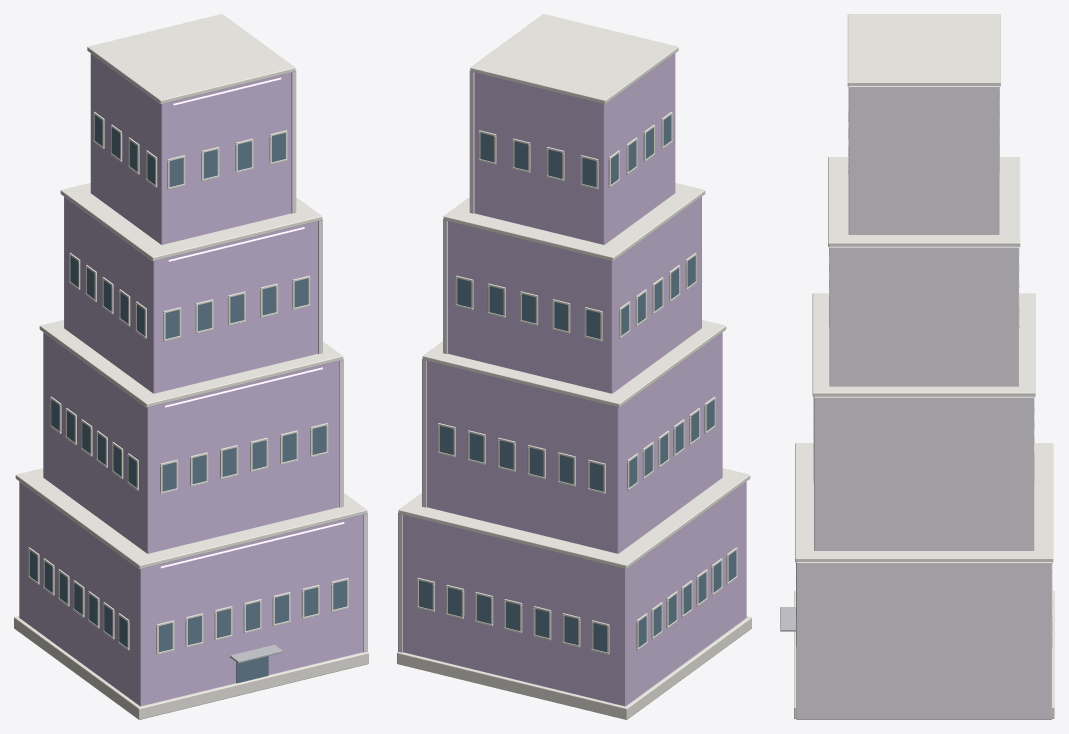
The model's file is bldg_lilac_tower.glb.
The picture shows the model from 3 angles, left to right: view 1: azimuth 30°, elevation 25°; view 2: azimuth 150°, elevation 25°; view 3: azimuth 270°, elevation 25°; orthographic projection. The views are drawn at different scales.
Parts seen in each view (by area): view 1: bldg_lilac_tower_band_0_wall, bldg_lilac_tower_band_1_wall, bldg_lilac_tower_band_2_wall, bldg_lilac_tower_band_3_wall, bldg_lilac_tower_band_3_cornice, bldg_lilac_tower_band_0_cornice, bldg_lilac_tower_plinth, bldg_lilac_tower_band_2_cornice, bldg_lilac_tower_band_1_cornice, bldg_lilac_tower_band_3_pilaster, bldg_lilac_tower_band_1_pilaster, bldg_lilac_tower_band_0_pilaster (+2 smaller); view 2: bldg_lilac_tower_band_0_wall, bldg_lilac_tower_band_1_wall, bldg_lilac_tower_band_2_wall, bldg_lilac_tower_band_3_wall, bldg_lilac_tower_band_3_cornice, bldg_lilac_tower_band_0_cornice, bldg_lilac_tower_plinth, bldg_lilac_tower_band_2_cornice, bldg_lilac_tower_band_1_cornice, bldg_lilac_tower_band_3_pilaster, bldg_lilac_tower_band_1_pilaster, bldg_lilac_tower_band_0_pilaster (+1 smaller); view 3: bldg_lilac_tower_band_0_pilaster, bldg_lilac_tower_band_1_pilaster, bldg_lilac_tower_band_2_pilaster, bldg_lilac_tower_band_3_pilaster, bldg_lilac_tower_band_3_cornice, bldg_lilac_tower_band_0_cornice, bldg_lilac_tower_band_1_cornice, bldg_lilac_tower_band_2_cornice, bldg_lilac_tower_plinth.
Boxes of the visible parts, x1,y1,x2,y2 form: bldg_lilac_tower_band_0_wall: (19, 481, 362, 706); bldg_lilac_tower_band_1_wall: (43, 332, 338, 553); bldg_lilac_tower_band_2_wall: (64, 197, 317, 393); bldg_lilac_tower_band_3_wall: (90, 53, 291, 244); bldg_lilac_tower_band_3_cornice: (87, 14, 295, 104); bldg_lilac_tower_band_0_cornice: (15, 468, 367, 569); bldg_lilac_tower_plinth: (14, 616, 368, 719); bldg_lilac_tower_band_2_cornice: (60, 183, 322, 261); bldg_lilac_tower_band_1_cornice: (39, 320, 343, 407); bldg_lilac_tower_band_3_pilaster: (291, 70, 296, 213); bldg_lilac_tower_band_1_pilaster: (339, 359, 343, 507); bldg_lilac_tower_band_0_pilaster: (363, 512, 367, 652); bldg_lilac_tower_band_0_wall: (403, 481, 746, 706); bldg_lilac_tower_band_1_wall: (427, 332, 722, 553); bldg_lilac_tower_band_2_wall: (448, 197, 701, 393); bldg_lilac_tower_band_3_wall: (474, 53, 675, 244); bldg_lilac_tower_band_3_cornice: (470, 14, 678, 104); bldg_lilac_tower_band_0_cornice: (398, 468, 750, 569); bldg_lilac_tower_plinth: (397, 616, 751, 719); bldg_lilac_tower_band_2_cornice: (443, 183, 705, 261); bldg_lilac_tower_band_1_cornice: (422, 320, 726, 407); bldg_lilac_tower_band_3_pilaster: (469, 70, 474, 213); bldg_lilac_tower_band_1_pilaster: (422, 359, 426, 507); bldg_lilac_tower_band_0_pilaster: (398, 512, 402, 652); bldg_lilac_tower_band_0_pilaster: (796, 562, 1051, 719); bldg_lilac_tower_band_1_pilaster: (814, 396, 1034, 550); bldg_lilac_tower_band_2_pilaster: (829, 246, 1018, 386); bldg_lilac_tower_band_3_pilaster: (848, 86, 999, 234); bldg_lilac_tower_band_3_cornice: (847, 14, 1000, 86); bldg_lilac_tower_band_0_cornice: (795, 443, 1053, 562); bldg_lilac_tower_band_1_cornice: (812, 293, 1035, 396); bldg_lilac_tower_band_2_cornice: (828, 157, 1020, 246); bldg_lilac_tower_plinth: (794, 590, 1054, 718).
Size of the model in its own units: 17.51 by 42.85 by 17.35.
